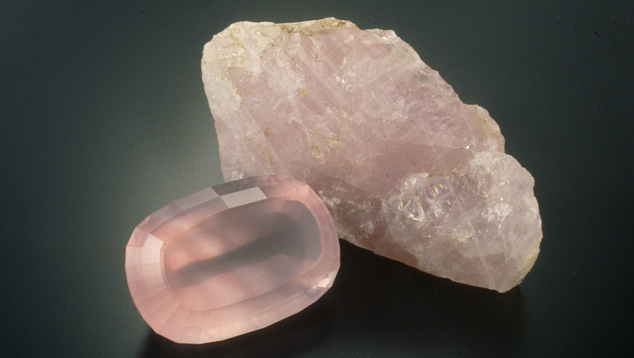Rose_Quartz: (122, 15, 546, 343)
